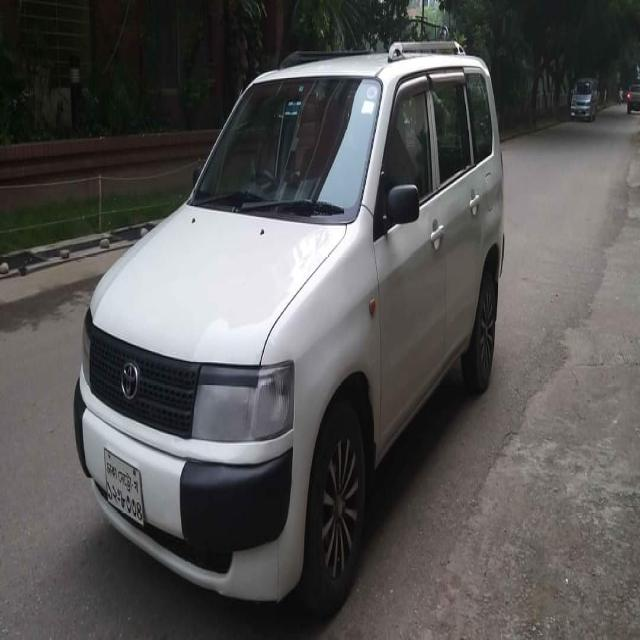white: (61, 59, 522, 553)
